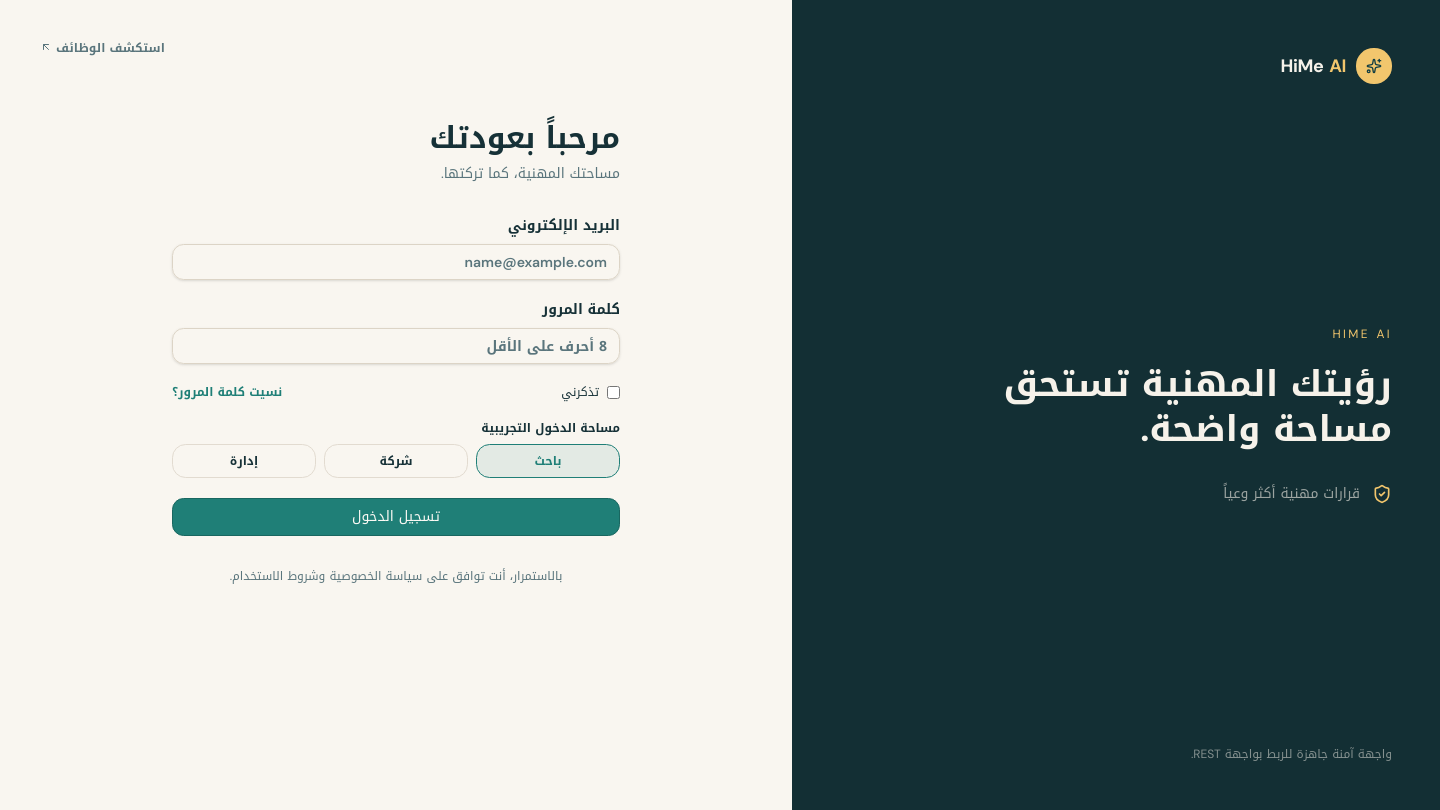
authentication flows › does not report sign-in success for invalid values, then confirms valid input
The width and height of the screenshot is (1440, 810).
Click the button with test id "button-submit-login": (396, 517) [172,498,620,536]
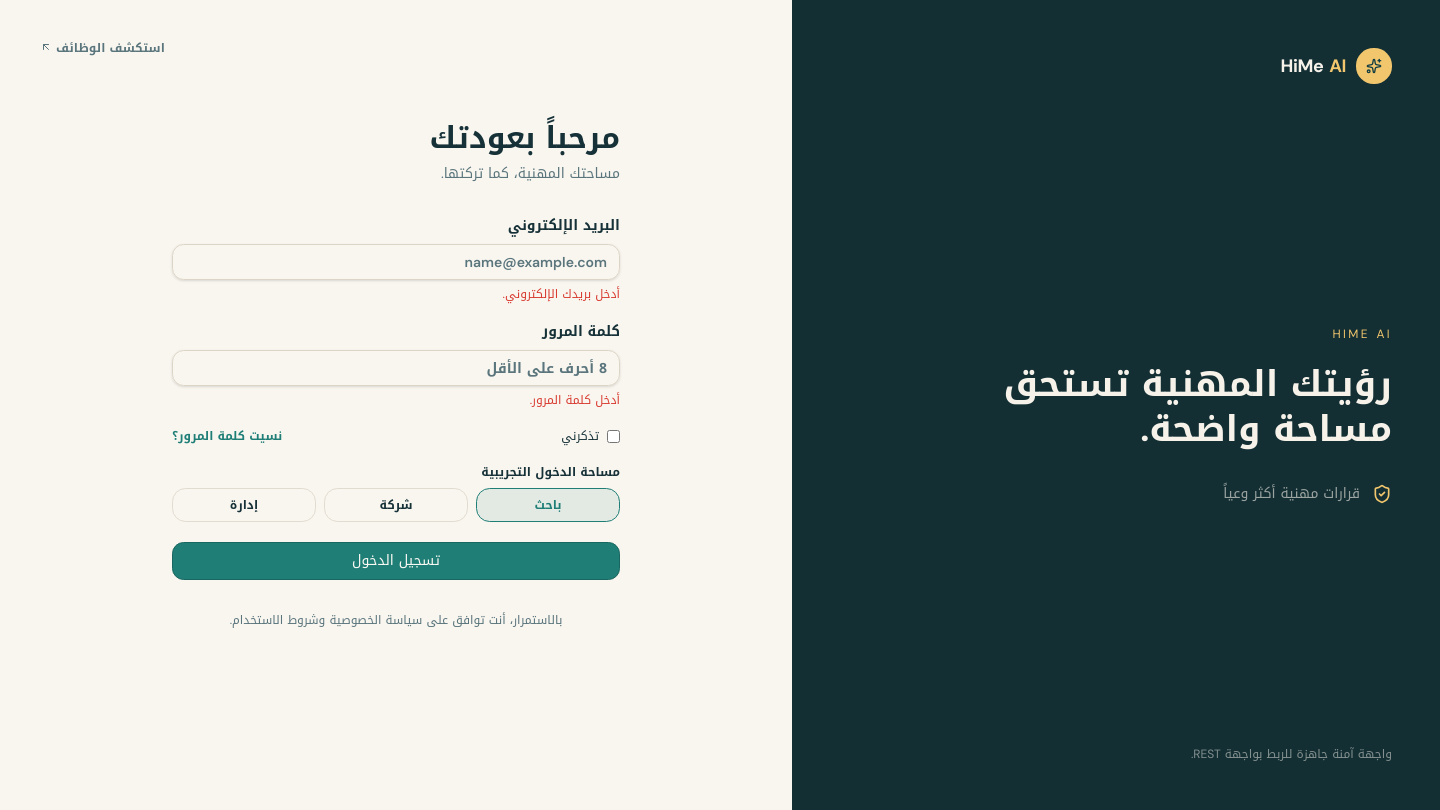
expect the number of messages is 2: met, box [503,283,620,305]; [530,389,620,411]
In the field with test id "input-login-email": (396, 262) [172,244,620,280], type "person@example.com"
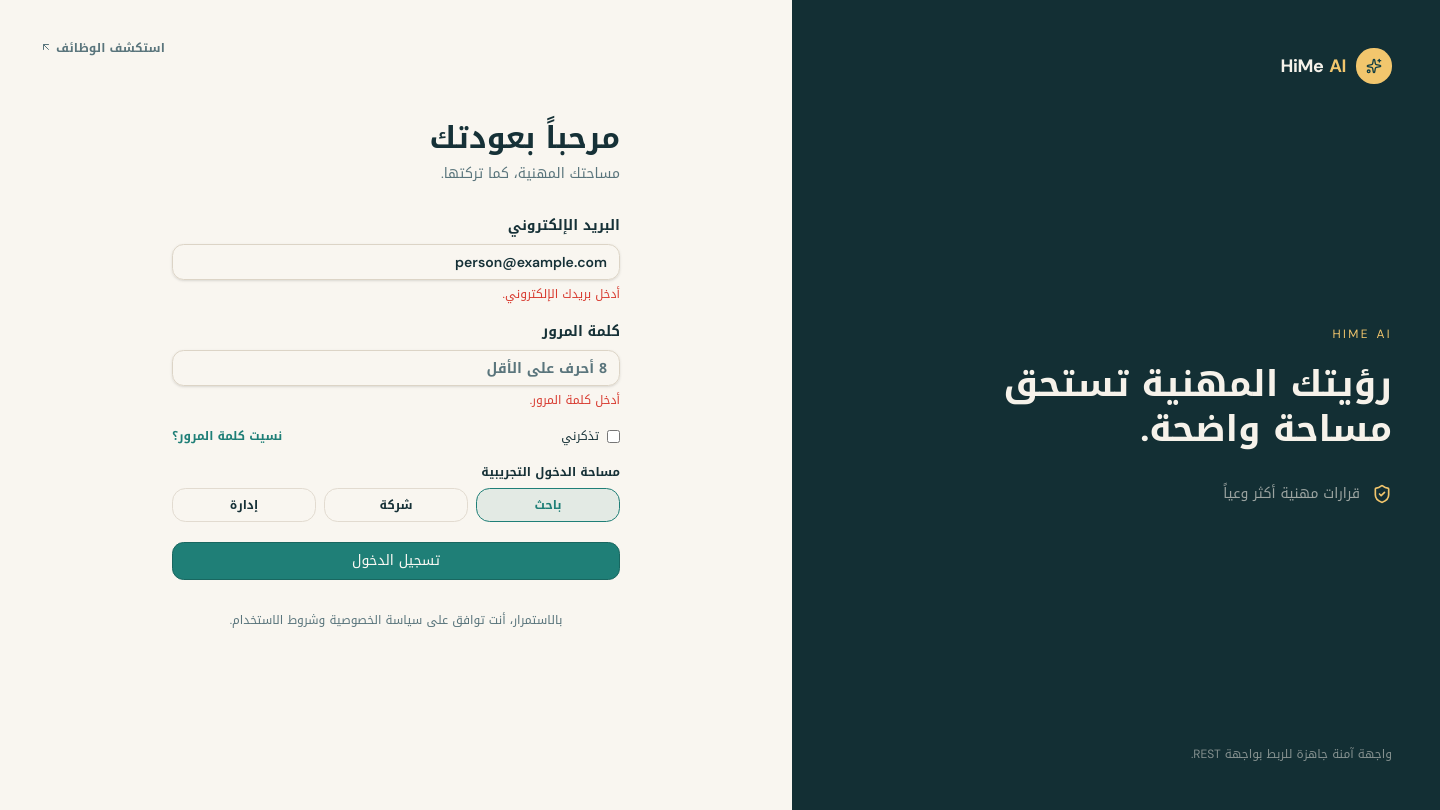
In the password field with test id "input-login-password": (396, 368) [172,350,620,386], type "correct-password"
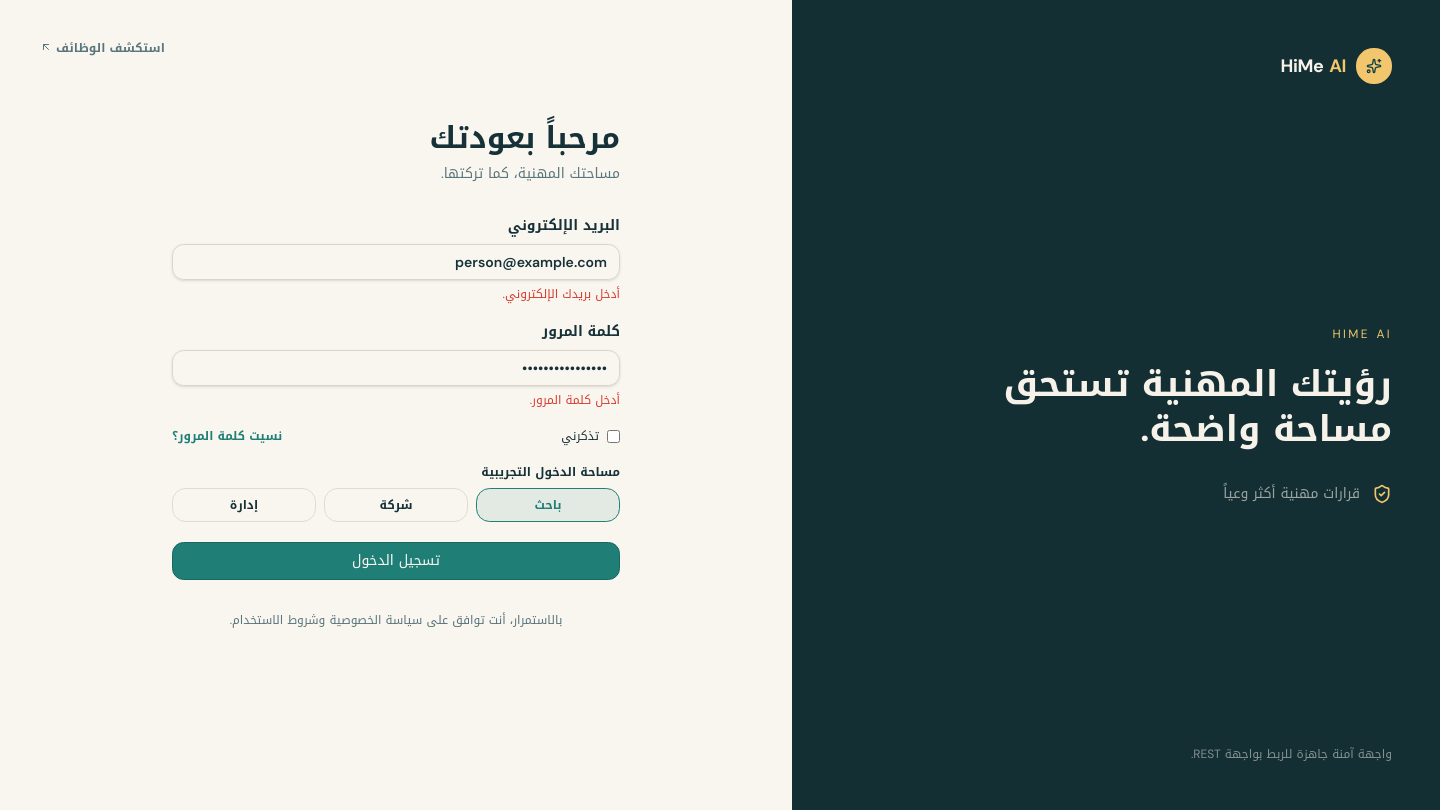
Click the button with test id "button-submit-login": (396, 561) [172,542,620,580]
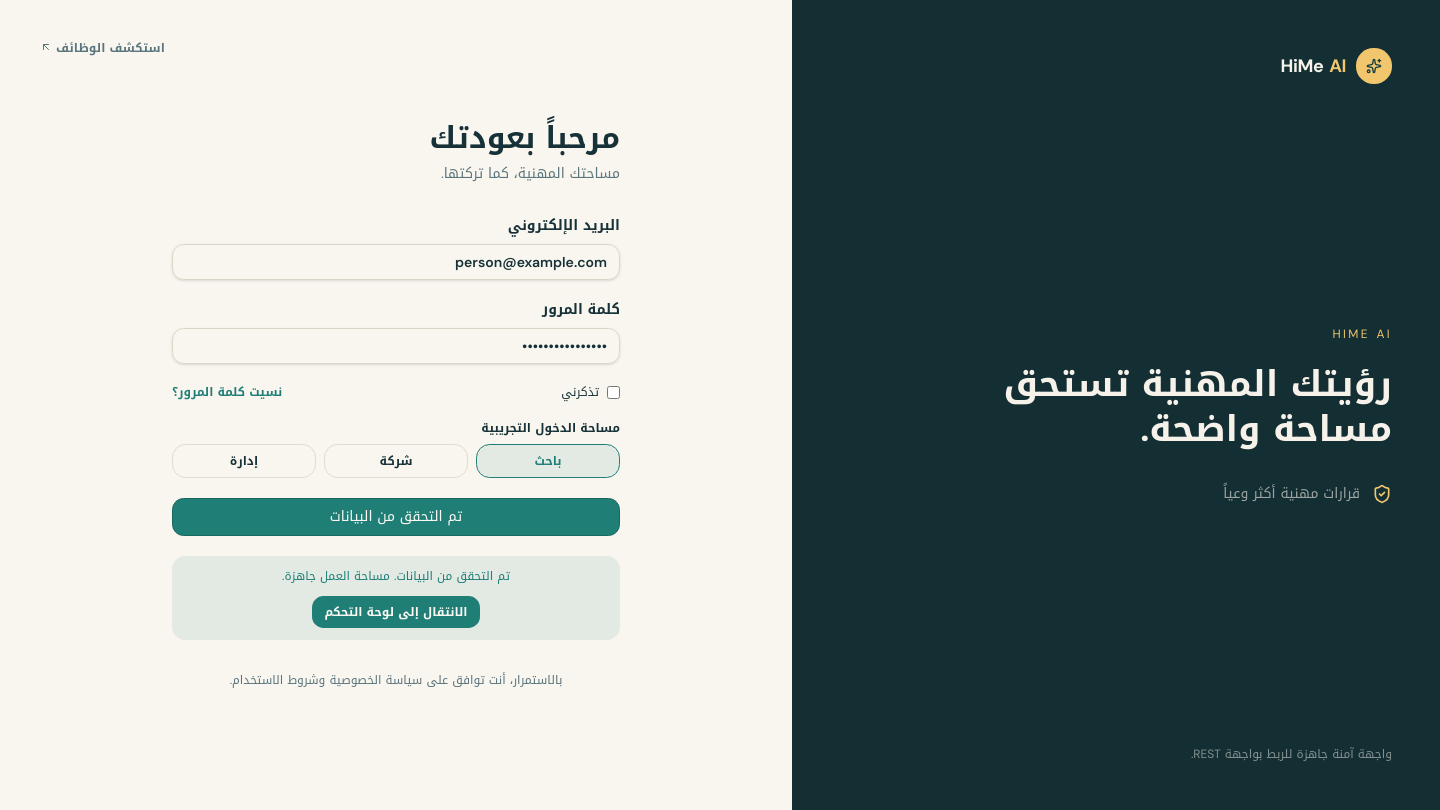
expect the message "تم التحقق من البيانات. مساحة العمل جاهزة. الانتقال إلى لوحة التحكم" is shown: met, box [172,556,620,640]
